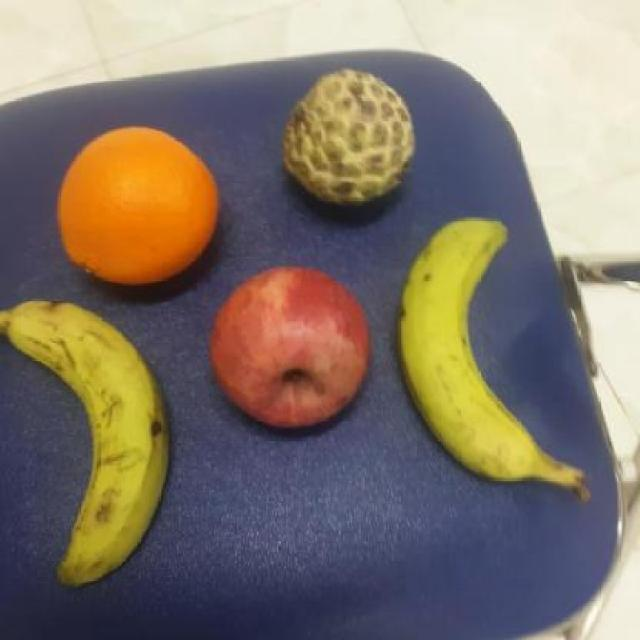apple: (208, 263, 377, 434)
banana: (15, 297, 173, 588), (393, 211, 549, 485)
oren: (52, 125, 220, 289)
sugar apple: (280, 66, 422, 212)
